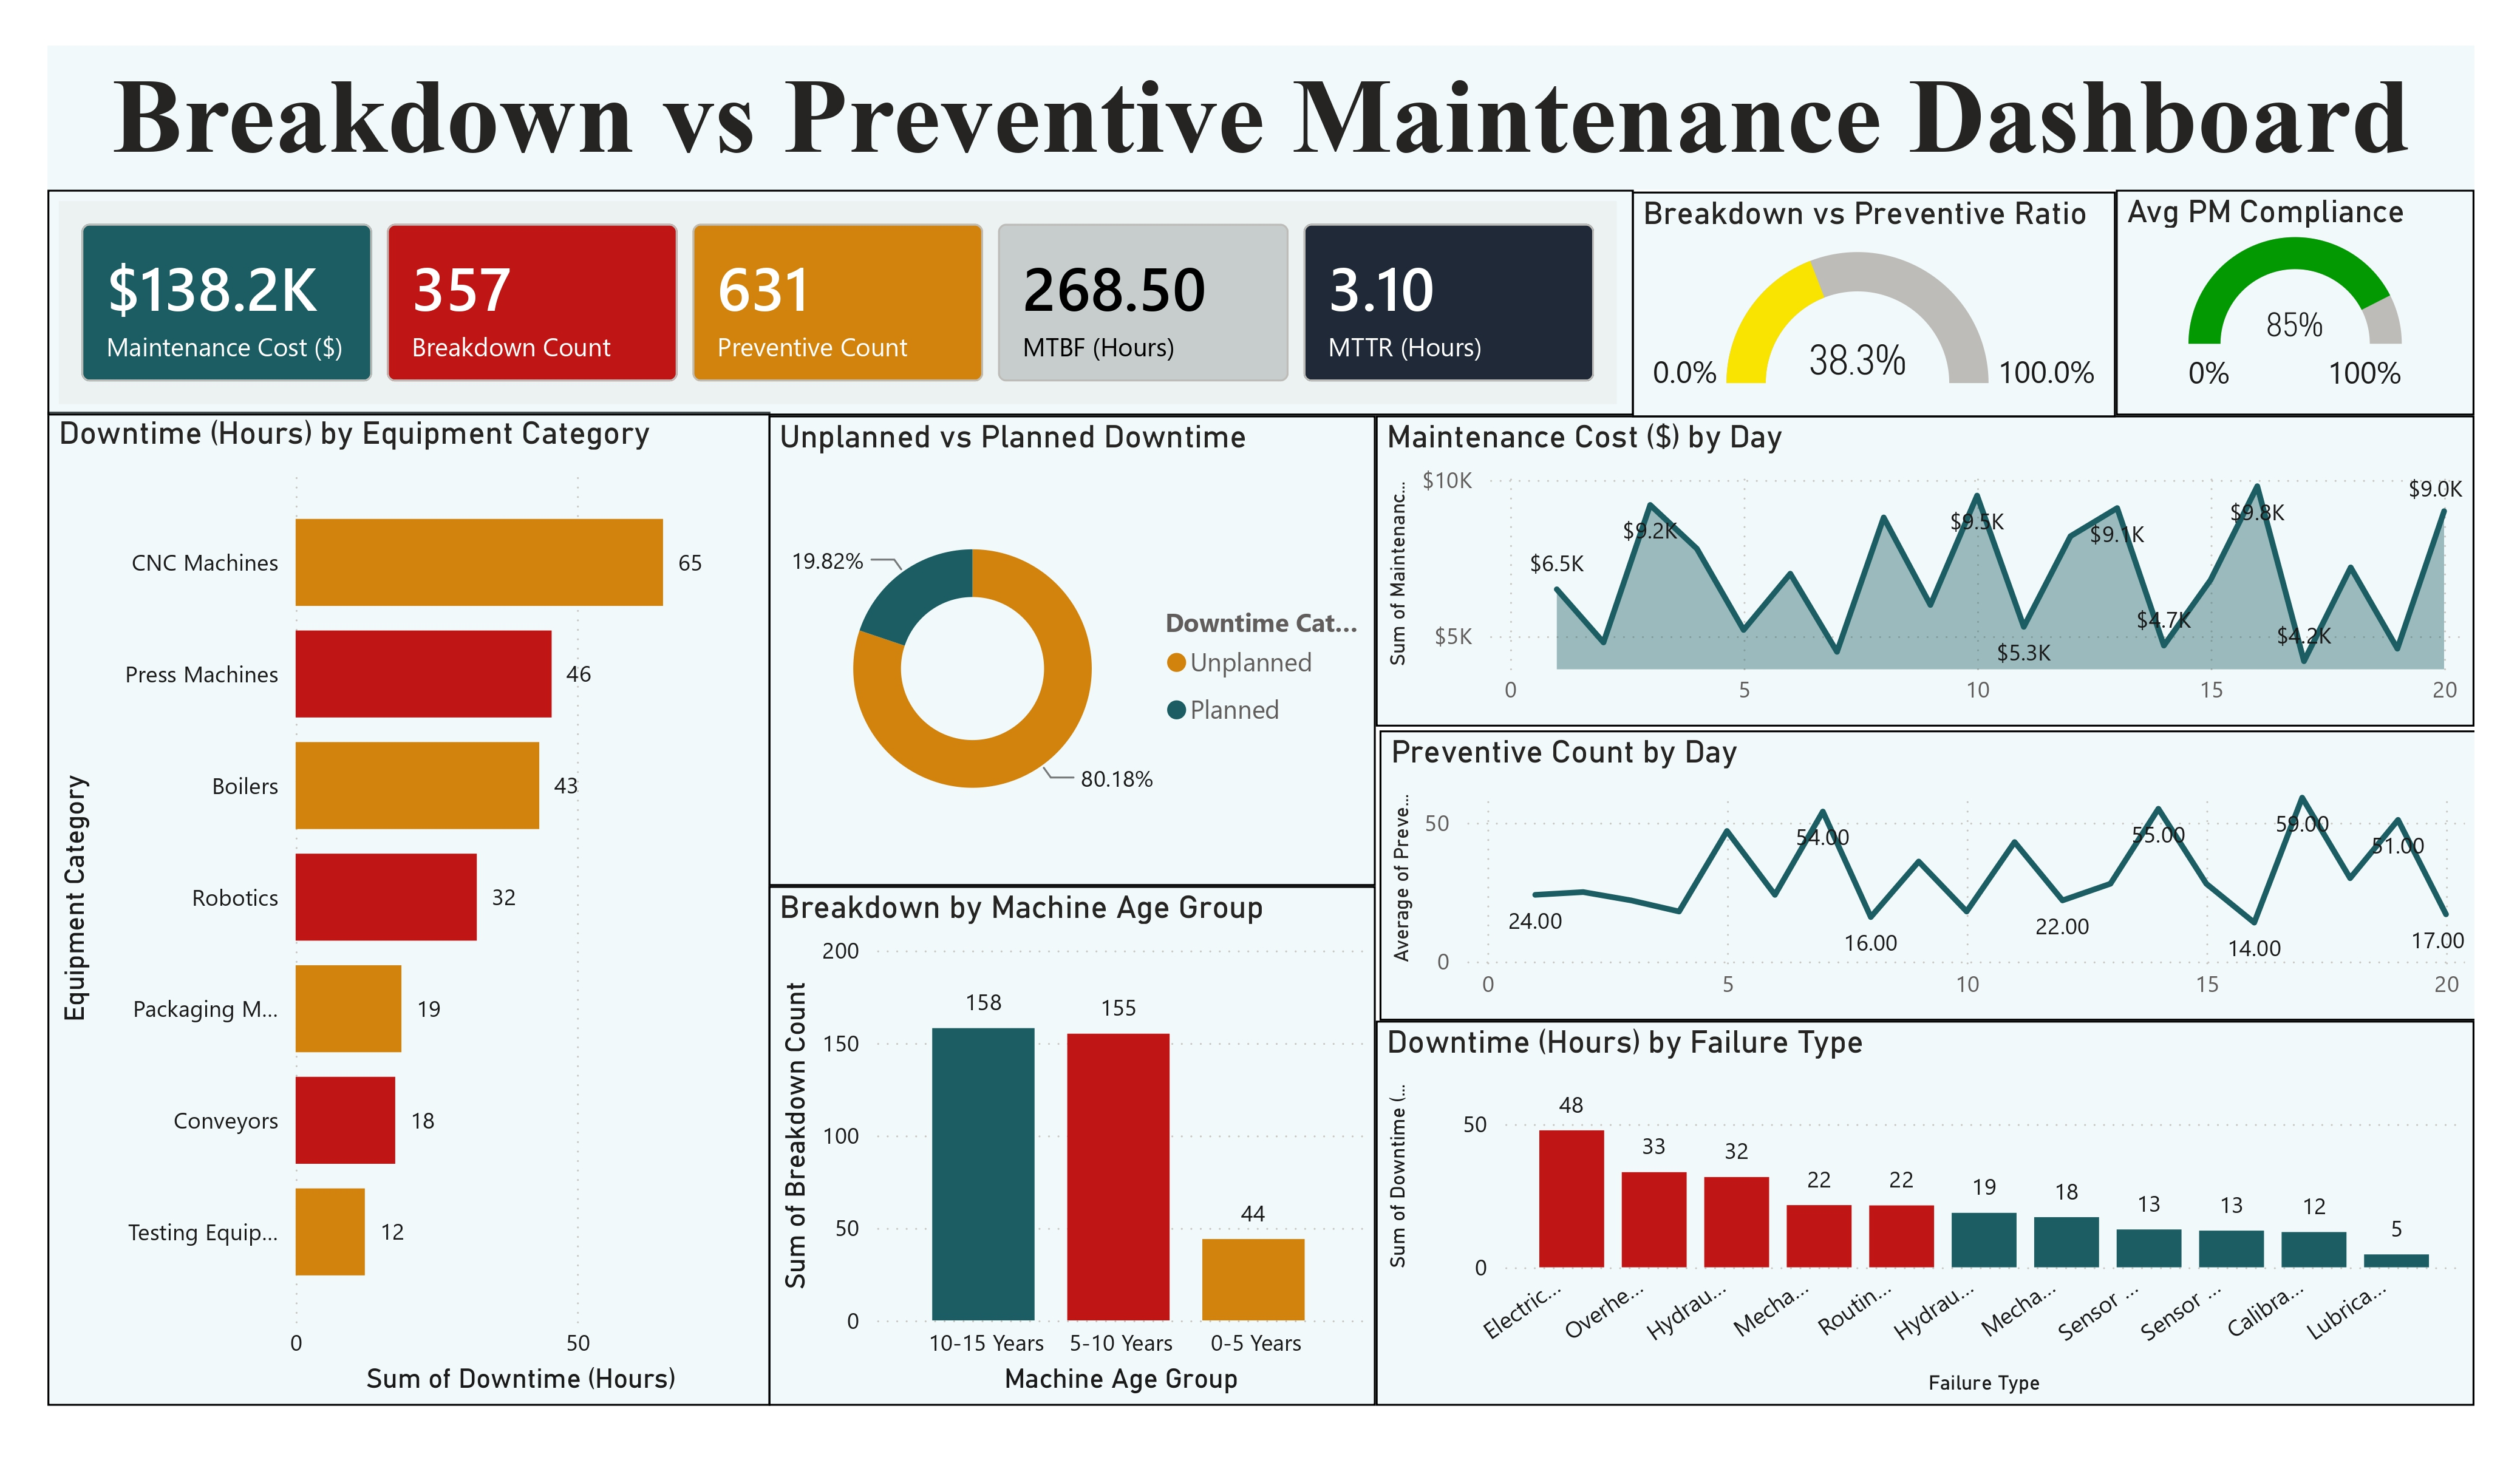

Layout of this report page (visuals, bound fields, positions):
{"tool":"powerbi","page":{"name":"Page 1","canvas":[1280,720],"ordinal":0},"visuals":[{"type":"donutChart","title":"Unplanned vs Planned Downtime","fields":{"Category":["Breakdown & Preventive Data.Downtime Category"],"Y":["Sum(Breakdown & Preventive Data.Downtime (Hours))"]},"box":[380.9,194.8,320.3,248.2],"z":0},{"type":"barChart","title":"Downtime (Hours) by Equipment Category","fields":{"Category":["Breakdown & Preventive Data.Equipment Category"],"Y":["Sum(Breakdown & Preventive Data.Downtime (Hours))"]},"box":[1.4,193.3,380.9,523.7],"z":1000},{"type":"columnChart","title":"Breakdown by Machine Age Group","fields":{"Category":["Breakdown & Preventive Data.Machine Age Group"],"Y":["Sum(Breakdown & Preventive Data.Breakdown Count)"]},"box":[380.9,442.9,320.3,274.1],"z":2000},{"type":"areaChart","title":" Maintenance Cost ($) by Day","fields":{"Category":["Breakdown & Preventive Data.Date.Variation.Date Hierarchy.Day"],"Y":["Sum(Breakdown & Preventive Data.Maintenance Cost ($))"]},"box":[701.2,194.8,578.5,164.5],"z":3000},{"type":"columnChart","title":"Downtime (Hours) by Failure Type","fields":{"Category":["Breakdown & Preventive Data.Failure Type"],"Y":["Sum(Breakdown & Preventive Data.Downtime (Hours))"]},"box":[701.2,513.6,578.5,203.4],"z":4000},{"type":"gauge","title":"Avg PM Compliance ","fields":{"Y":["Avg(Breakdown & Preventive Data.PM Compliance (%))"]},"box":[1090.7,76.5,189,119],"z":5000},{"type":"gauge","title":" Breakdown vs Preventive Ratio ","fields":{"Y":["Avg(Breakdown & Preventive Data.Breakdown vs Preventive Ratio (%))"]},"box":[836.5,76.7,254.5,119.2],"z":6000},{"type":"cardVisual","fields":{"Data":["Sum(Breakdown & Preventive Data.Maintenance Cost ($))","Sum(Breakdown & Preventive Data.Breakdown Count)","Sum(Breakdown & Preventive Data.Preventive Count)","Avg(Breakdown & Preventive Data.MTBF (Hours))","Avg(Breakdown & Preventive Data.MTTR (Hours))"]},"box":[1.4,76.5,835.4,118.3],"z":7000},{"type":"textbox","box":[1,0,1279,76],"z":8000},{"type":"lineChart","title":" Preventive Count by Day","fields":{"Category":["Breakdown & Preventive Data.Date.Variation.Date Hierarchy.Day"],"Y":["Avg(Breakdown & Preventive Data.Preventive Count)"]},"box":[702.6,360.7,578,152.9],"z":10000}]}

Visuals, with their boxes in screenshot pixels (x1, y1, x2, y2):
"Unplanned vs Planned Downtime" donutChart: [x1=772, y1=410, x2=1372, y2=875]
"Downtime (Hours) by Equipment Category" barChart: [x1=62, y1=408, x2=775, y2=1388]
"Breakdown by Machine Age Group" columnChart: [x1=772, y1=875, x2=1372, y2=1388]
" Maintenance Cost ($) by Day" areaChart: [x1=1372, y1=410, x2=2456, y2=719]
"Downtime (Hours) by Failure Type" columnChart: [x1=1372, y1=1008, x2=2456, y2=1388]
"Avg PM Compliance " gauge: [x1=2102, y1=189, x2=2456, y2=412]
" Breakdown vs Preventive Ratio " gauge: [x1=1626, y1=189, x2=2102, y2=413]
cardVisual - Sum(Breakdown & Preventive Data.Maintenance Cost ($)) x Sum(Breakdown & Preventive Data.Breakdown Count): [x1=62, y1=189, x2=1626, y2=410]
textbox: [x1=61, y1=46, x2=2456, y2=188]
" Preventive Count by Day" lineChart: [x1=1375, y1=721, x2=2457, y2=1008]
